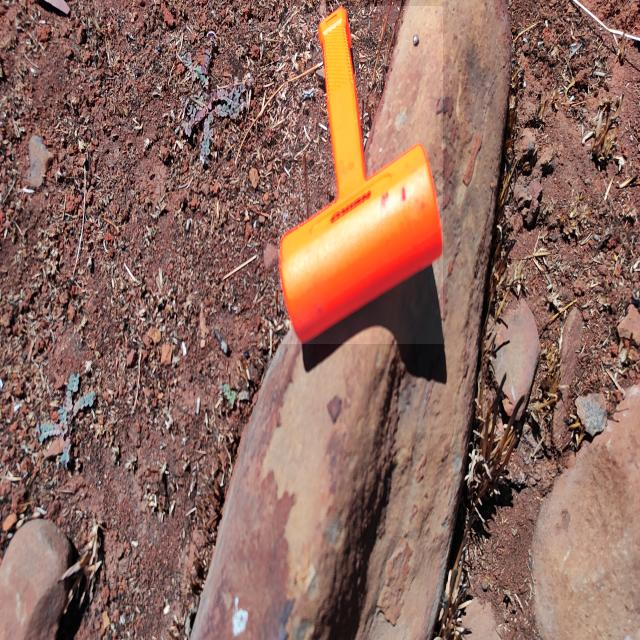Orange_hammer: (278, 6, 443, 344)
